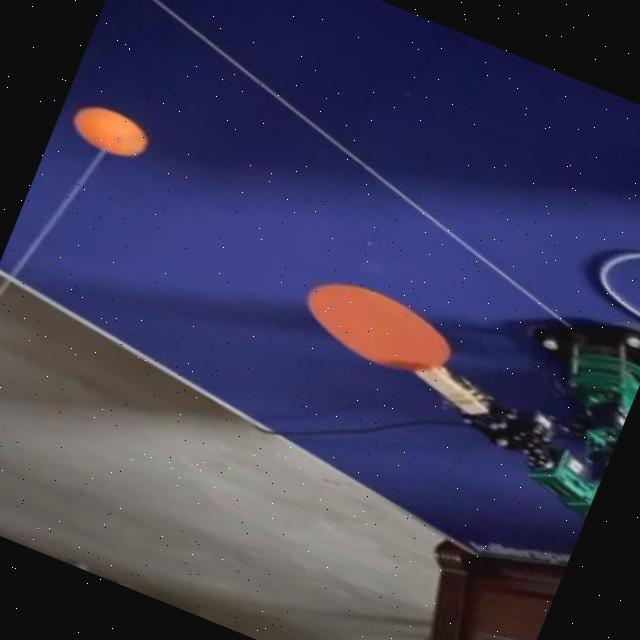ping-pong-ball: (70, 99, 150, 163)
